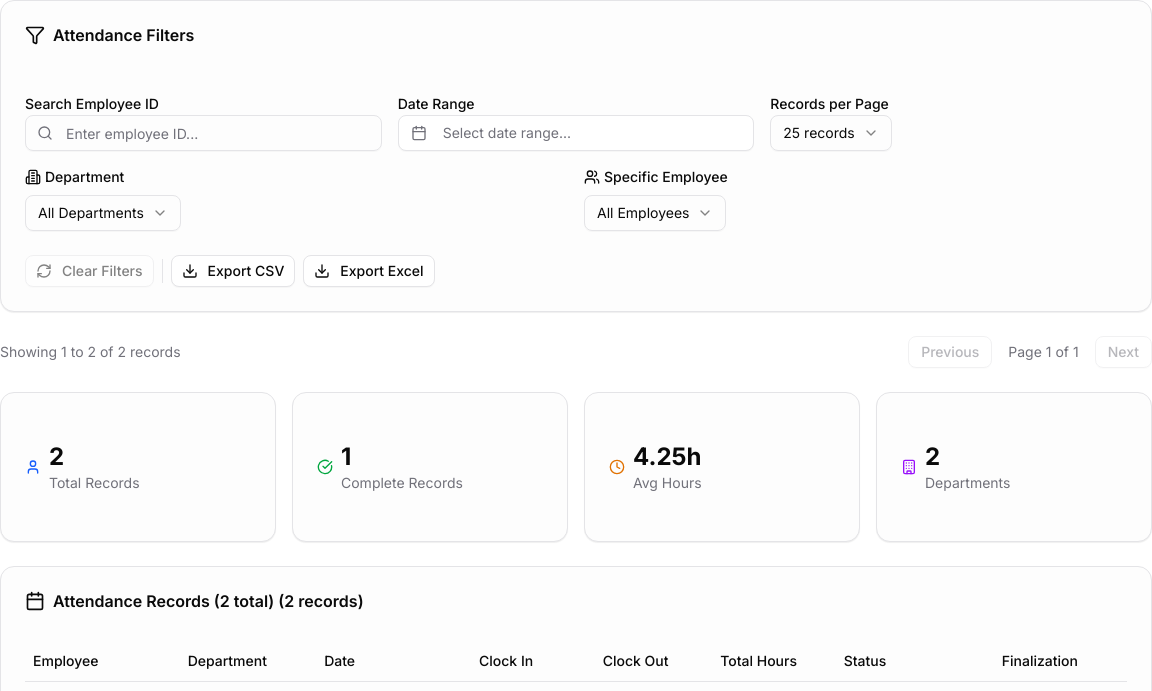
Test: AttendanceListView › displays active filters count
This screenshot has width=1152, height=691.
# Add a filter
Type "EMP001" into the field with placeholder "Enter employee ID..." at (203, 133), box x1=25 y1=115 x2=382 y2=151
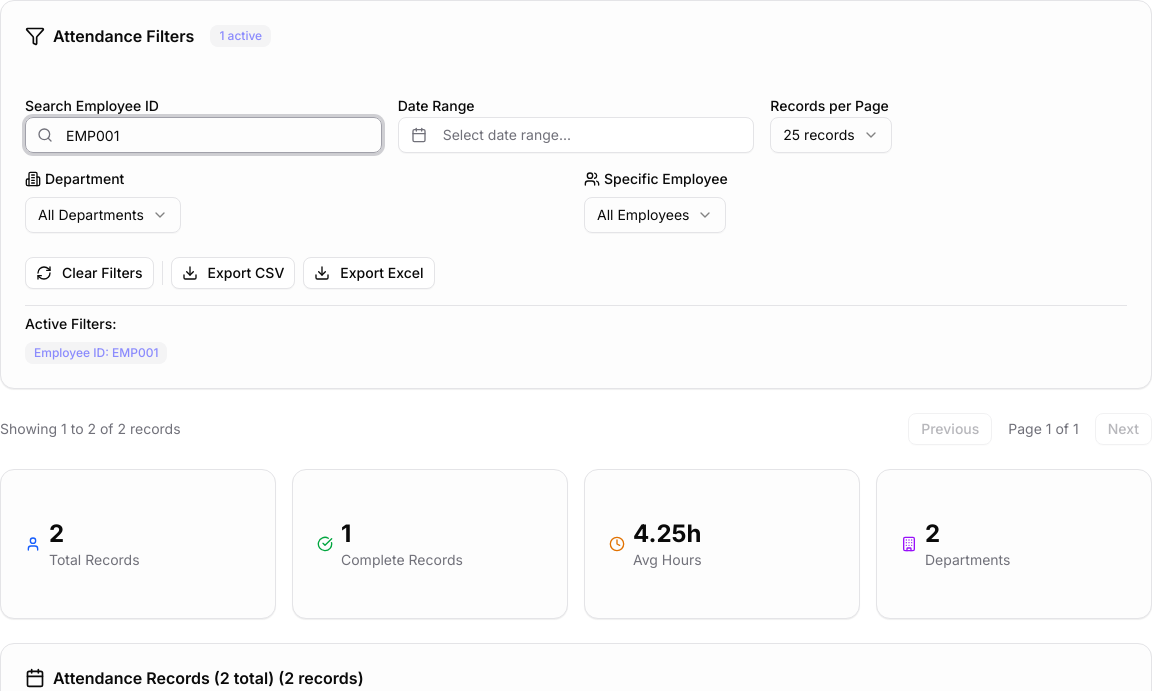
Check: the text "1 active" is shown, box x1=210 y1=25 x2=271 y2=47
